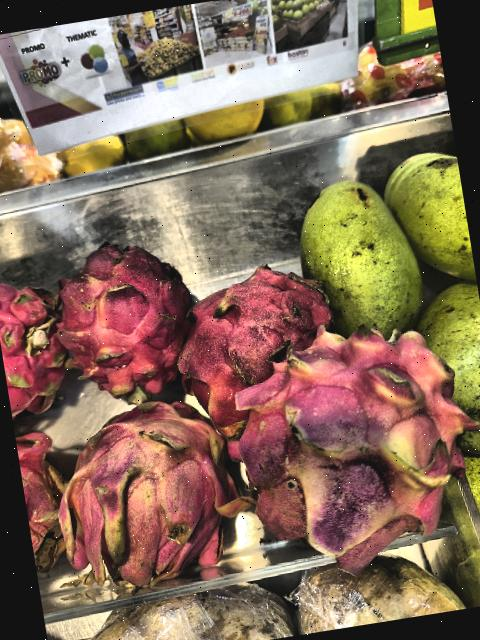buah-naga-belum-matang: (213, 314, 480, 566), (45, 388, 264, 615)
buah-naga-matang: (40, 236, 211, 407), (169, 262, 334, 394), (0, 268, 74, 419)
